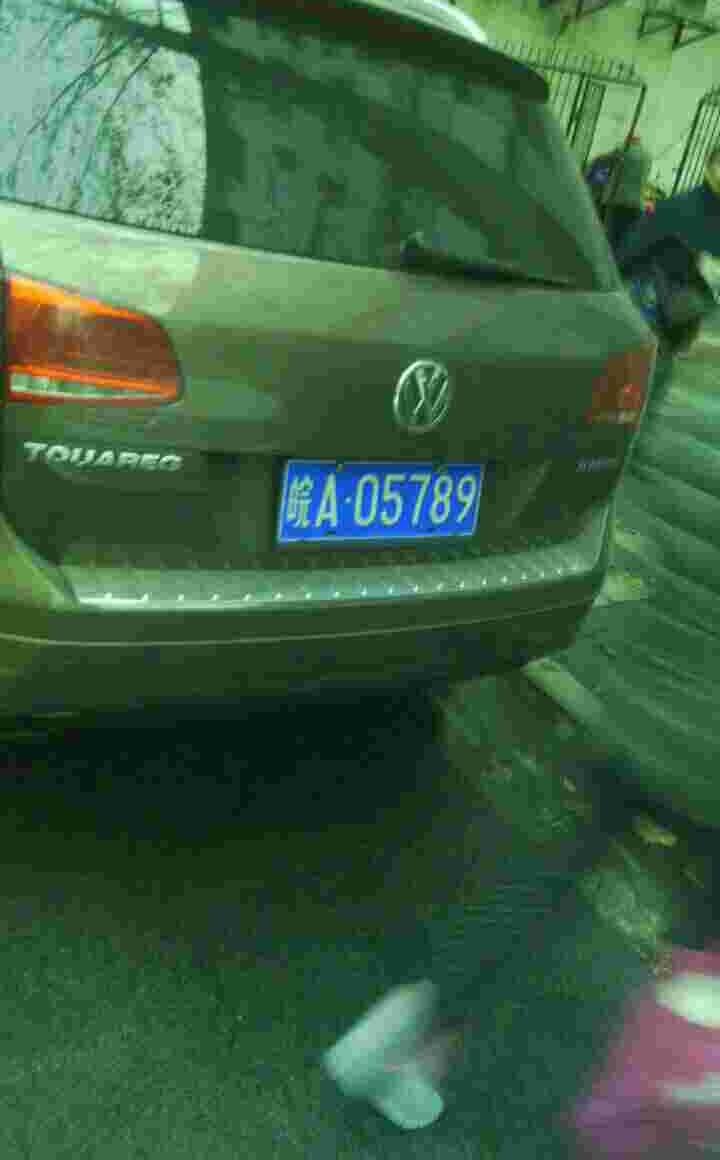license_plate: (279, 464, 488, 538)
